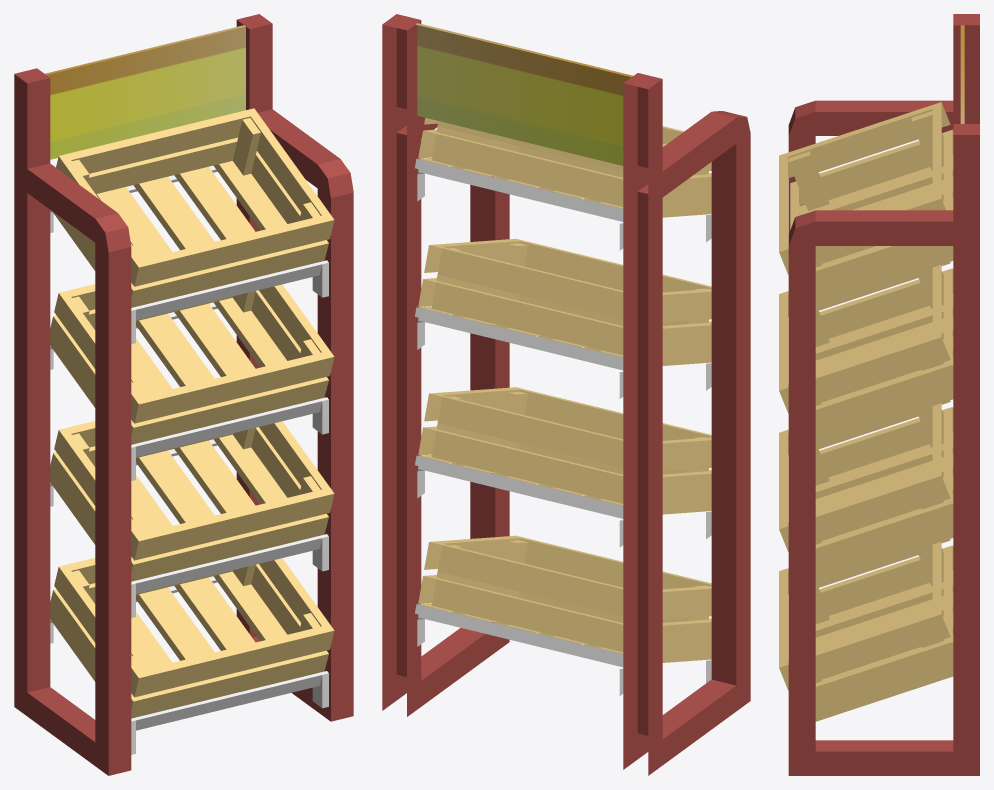
The model's file is SM_ShelfD.fbx.
The picture shows the model from 3 angles, left to right: view 1: azimuth 30°, elevation 25°; view 2: azimuth 150°, elevation 25°; view 3: azimuth 270°, elevation 25°; orthographic projection. The views are drawn at different scales.
Visible parts, largest first — view 1: SM_ShelfD; view 2: SM_ShelfD; view 3: SM_ShelfD.
Boxes of the visible parts, x1,y1,x2,y2 form: SM_ShelfD: (14,14,353,775); SM_ShelfD: (382,14,750,775); SM_ShelfD: (779,14,979,775).
Size of the model in its own units: 75 by 185 by 52.55.
